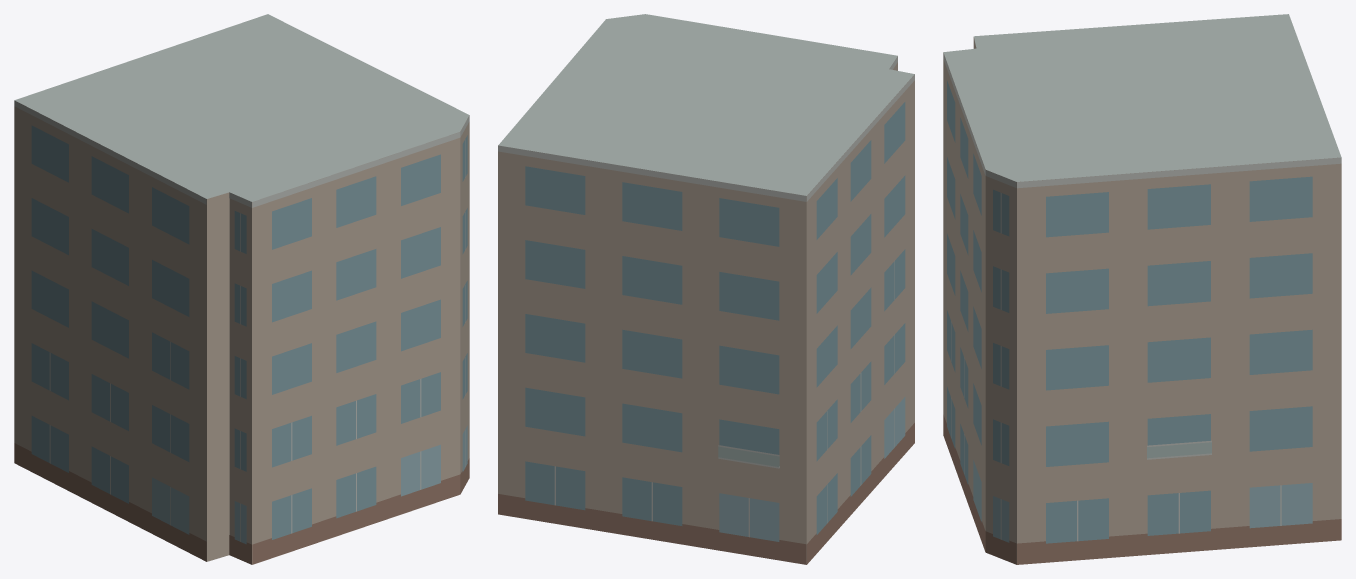
File: survey-upis-32527074.glb
3 renders of one model, left to right at view 1: azimuth 30°, elevation 25°; view 2: azimuth 150°, elevation 25°; view 3: azimuth 270°, elevation 25°, orthographic. The views are drawn at different scales.
Parts seen in each view (by area): view 1: survey-upis-32527074.tmp; view 2: survey-upis-32527074.tmp; view 3: survey-upis-32527074.tmp.
Boxes of the visible parts, <box> form: survey-upis-32527074.tmp: <box>14,14,469,564</box>; survey-upis-32527074.tmp: <box>498,14,914,564</box>; survey-upis-32527074.tmp: <box>943,14,1341,564</box>.
Bounding box in the file's own units: 14.05 × 14.92 × 14.08.
